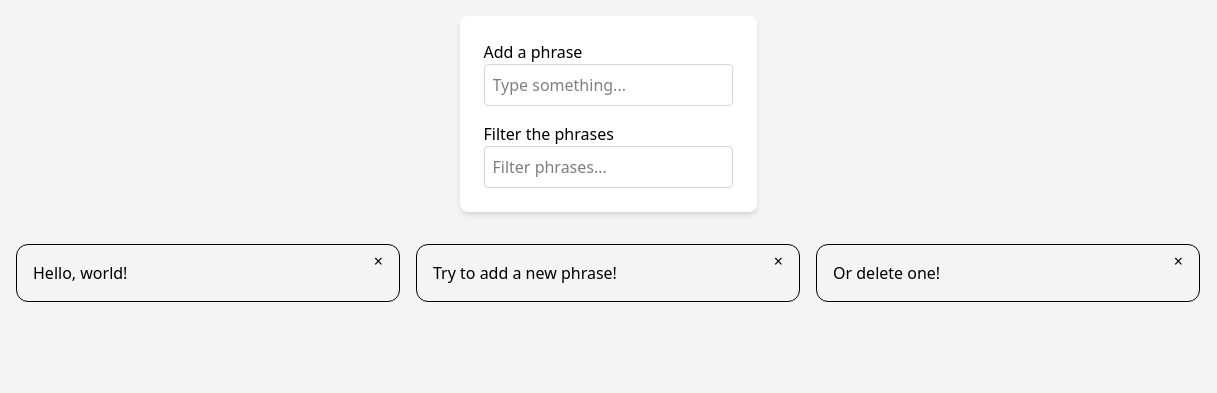
Test: App Component › should filter the phrases
The image size is (1217, 393).
Expected: the number of list items is 3, [16,244,400,302]; [416,244,800,302]; [816,244,1200,302]
Add new phrase
Type "testing new phrase" into the field with placeholder "Type something..." at (608, 85), box [484,64,732,106]
Then press Enter
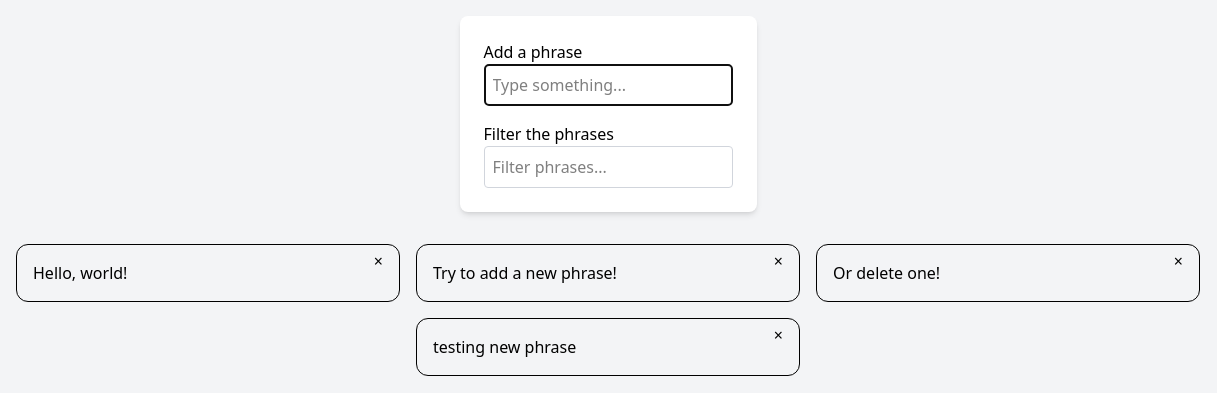
Expected: the number of list items is 4, [16,244,400,302]; [416,244,800,302]; [816,244,1200,302]; [416,318,800,376]
Filter added phrase
Type "testing new phrase" into the field with placeholder "Filter phrases..." at (608, 167), box [484,146,732,188]
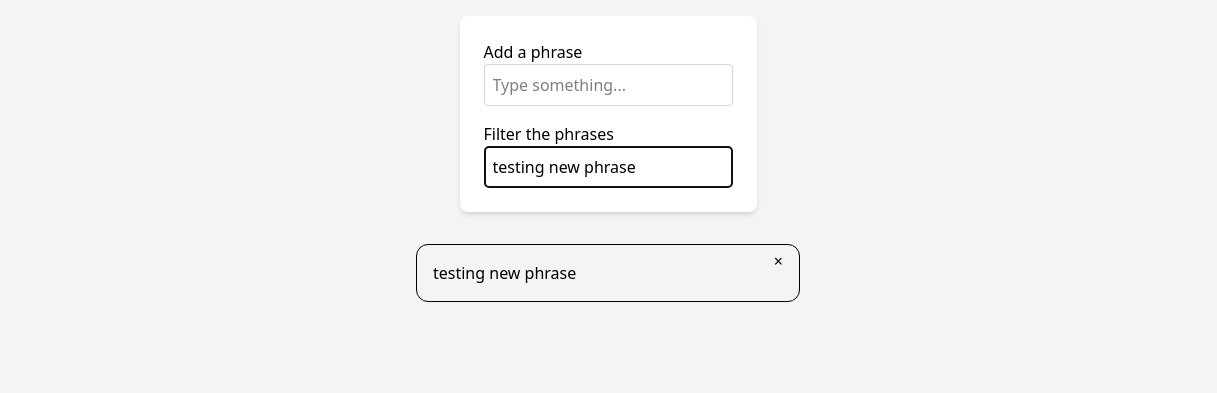
Expected: the text "testing new phrase" is shown, [433,262,576,284]
Expected: the number of list items is 1, [416,244,800,302]
